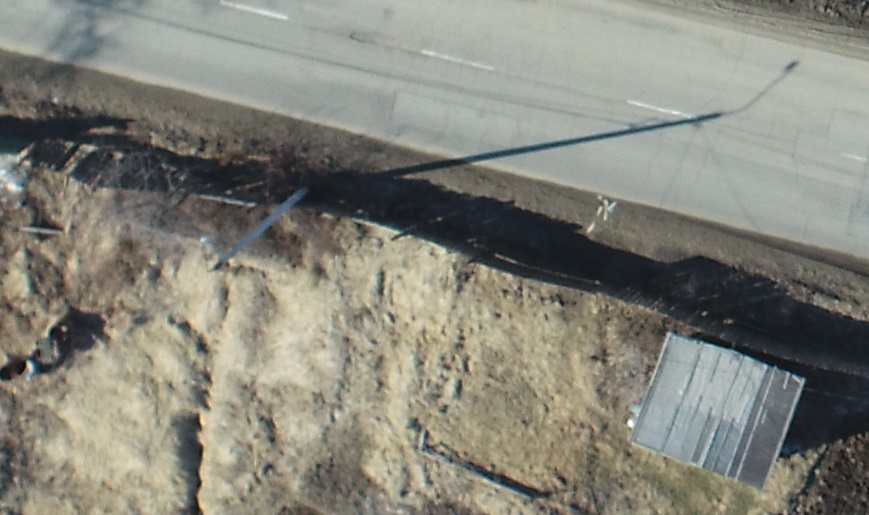opora: (198, 182, 317, 276)
